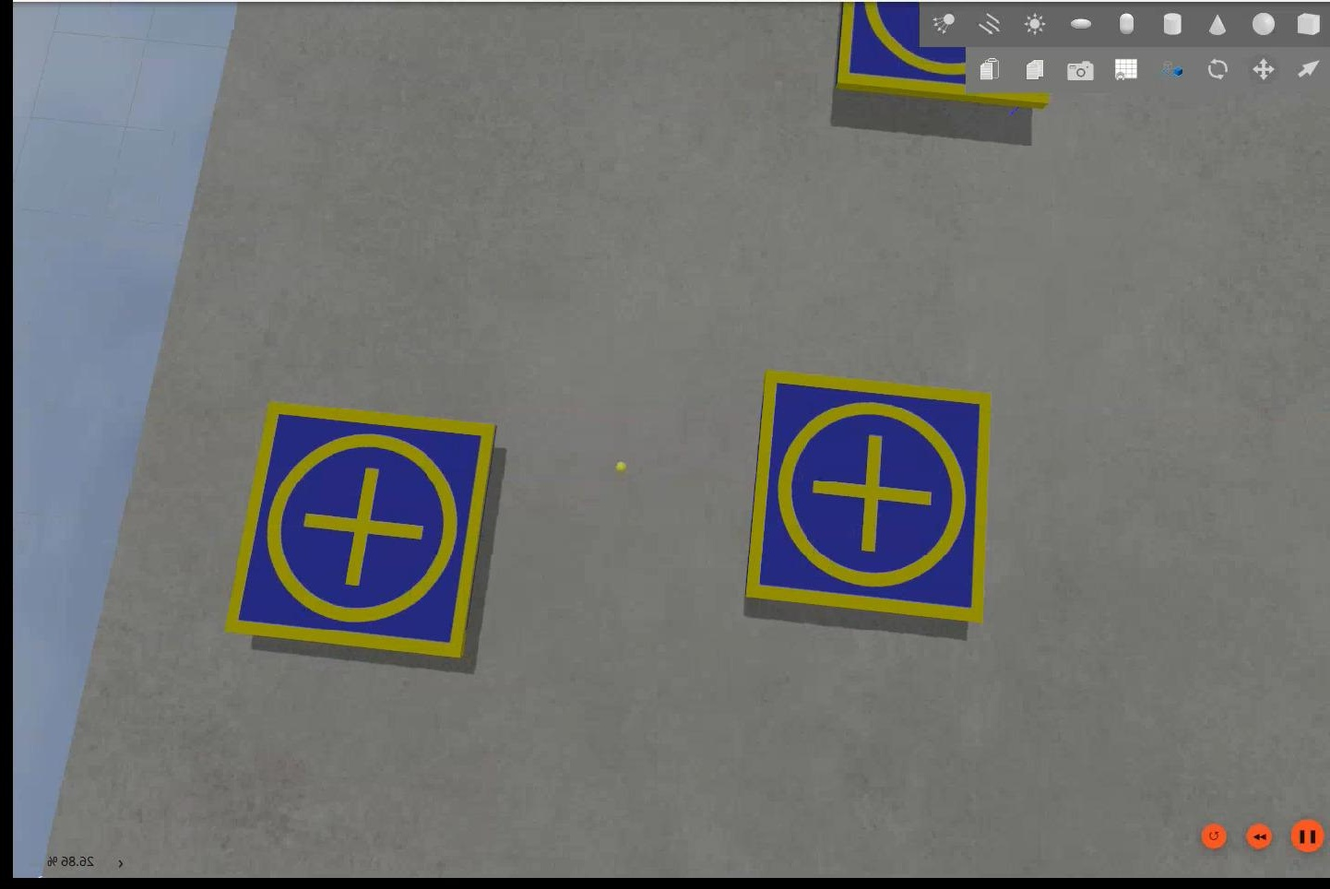small_base: (220, 406, 498, 663), (742, 369, 996, 628), (825, 4, 963, 100)
